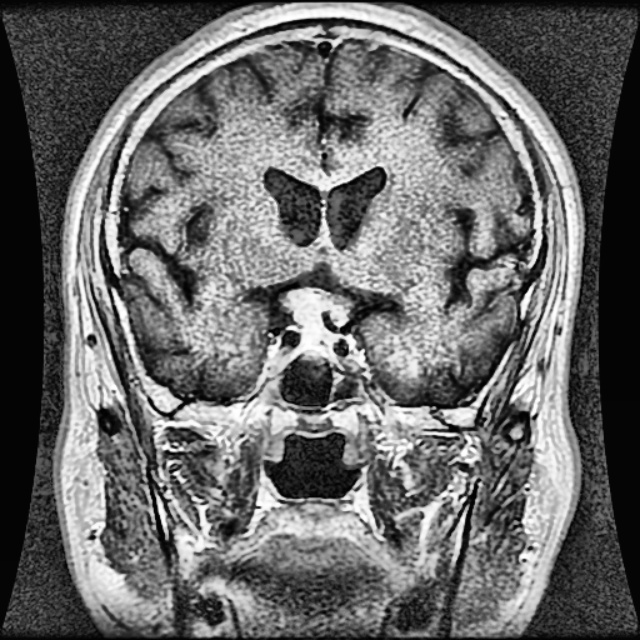Pituitary: (264, 280, 360, 373)
